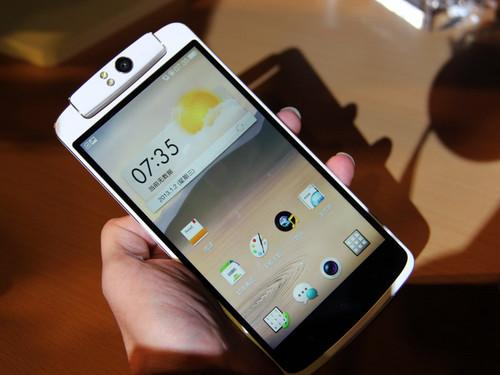phone: (72, 86, 376, 340)
